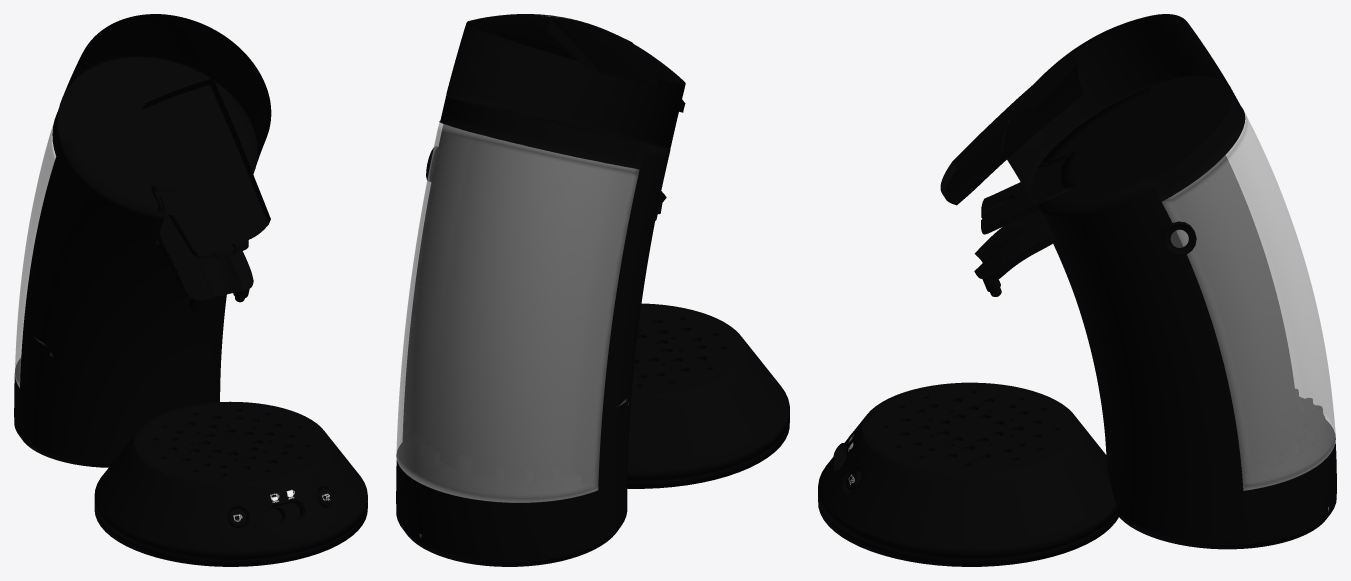
File: coffeemachine.glb
3 renders of one model, left to right at view 1: azimuth 30°, elevation 25°; view 2: azimuth 150°, elevation 25°; view 3: azimuth 270°, elevation 25°, orthographic. The views are drawn at different scales.
Parts seen in each view (by area): view 1: main body.004, bottom mesh with button.003, bottom mesh top holes.003; view 2: main body.004, bottom mesh with button.003, bottom mesh top holes.003; view 3: main body.004, bottom mesh with button.003, bottom mesh top holes.003.
Part boxes in pixels (x1,y1,x2,y2): main body.004: (14, 14, 271, 467); bottom mesh with button.003: (94, 401, 367, 566); bottom mesh top holes.003: (139, 403, 323, 481); main body.004: (396, 14, 685, 566); bottom mesh with button.003: (627, 303, 789, 488); bottom mesh top holes.003: (631, 305, 739, 392); main body.004: (940, 14, 1336, 549); bottom mesh with button.003: (818, 382, 1118, 566); bottom mesh top holes.003: (868, 384, 1073, 471).
Size of the model in its own units: 2.77 by 4.75 by 4.72.
Materials: 7 (5 with a texture image).
